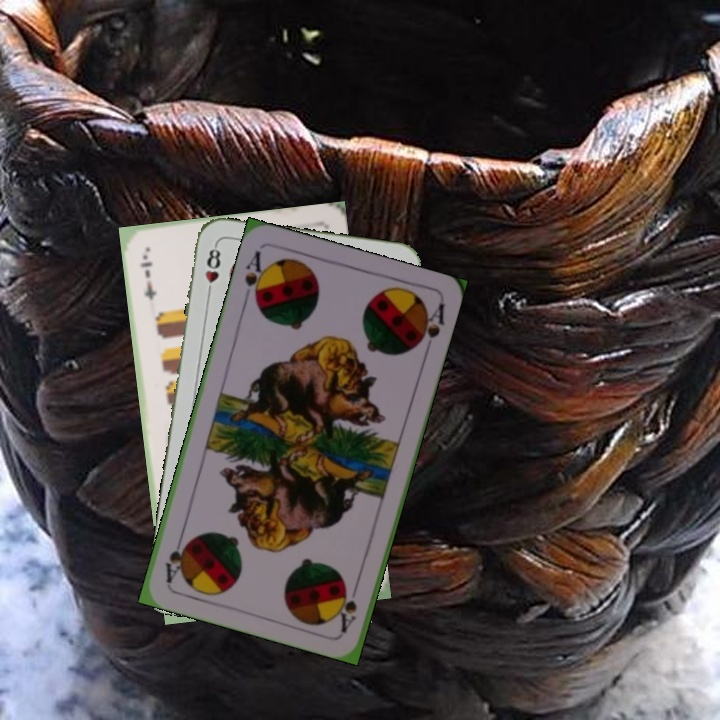E7: (136, 250, 159, 303)
H8: (201, 241, 223, 300)
SA: (240, 247, 270, 307), (335, 576, 362, 635)
